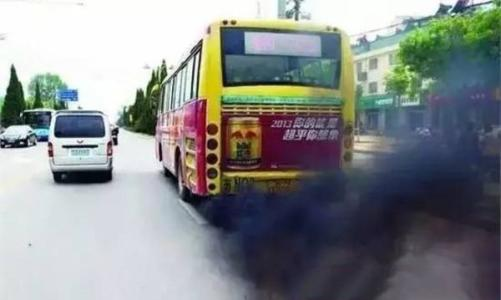smoke: (208, 160, 498, 300)
